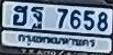letters: (30, 5, 45, 30), (12, 5, 29, 27), (56, 7, 69, 30), (83, 9, 96, 31), (97, 11, 109, 33), (70, 9, 82, 30)
province: (17, 33, 96, 48)
